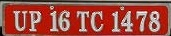character: (11, 9, 27, 31), (28, 9, 42, 31), (57, 9, 70, 32), (76, 9, 89, 32), (90, 10, 103, 32), (147, 10, 160, 32), (135, 9, 147, 32), (120, 10, 133, 31), (48, 10, 59, 32), (111, 10, 121, 32)
